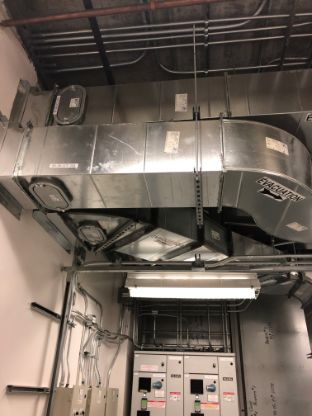Duct: (1, 122, 312, 218), (4, 63, 312, 126), (32, 208, 312, 277)
